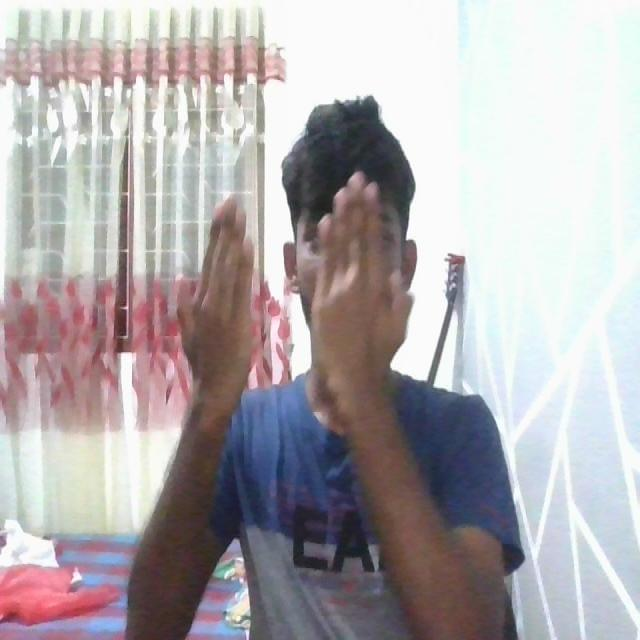ThankYou: (175, 179, 501, 565)
